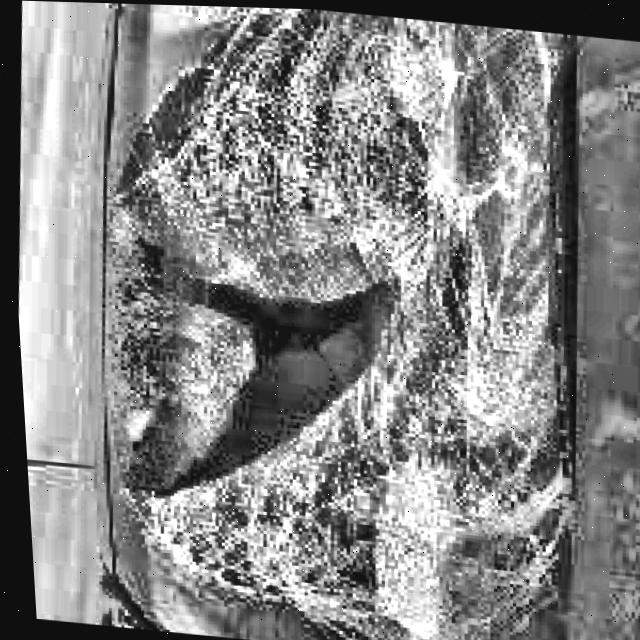glass_shatter: (87, 173, 429, 552)
